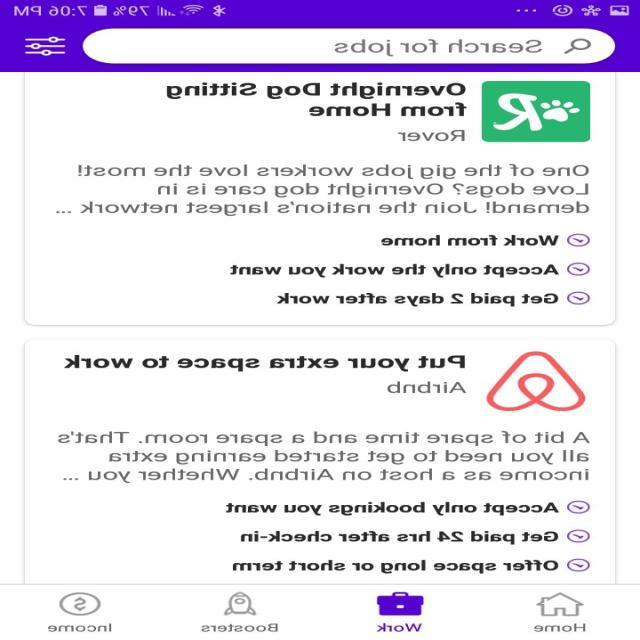EditText: (83, 28, 616, 64)
Icon: (536, 592, 584, 616), (377, 591, 424, 615), (59, 592, 102, 615), (25, 36, 67, 56), (564, 38, 592, 54)
Image: (482, 81, 590, 142), (486, 351, 586, 410), (224, 591, 257, 615)
Text: (59, 430, 590, 483), (56, 164, 590, 216), (167, 82, 468, 116), (65, 355, 466, 372), (226, 502, 560, 516), (230, 263, 560, 277), (233, 559, 558, 573), (242, 531, 558, 544), (277, 292, 559, 306), (334, 38, 542, 56), (381, 235, 559, 245), (386, 380, 466, 393), (398, 130, 464, 142), (202, 623, 280, 632), (48, 623, 112, 632), (534, 622, 586, 632), (377, 622, 423, 632)
